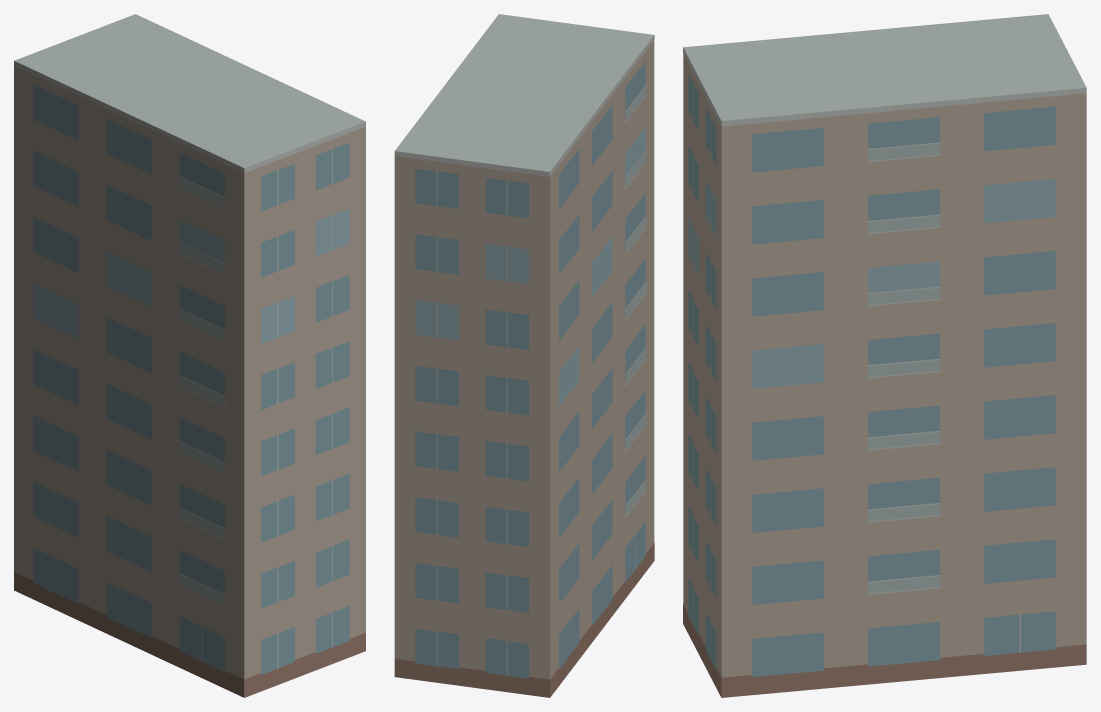
File: survey-upis-33042647.glb
3 renders of one model, left to right at view 1: azimuth 30°, elevation 25°; view 2: azimuth 150°, elevation 25°; view 3: azimuth 270°, elevation 25°, orthographic. The views are drawn at different scales.
Visible parts, largest first — view 1: survey-upis-33042647.tmp; view 2: survey-upis-33042647.tmp; view 3: survey-upis-33042647.tmp.
Boxes of the visible parts, box(x1,y1,x2,y2) form: survey-upis-33042647.tmp: box(14, 14, 365, 697); survey-upis-33042647.tmp: box(394, 14, 654, 697); survey-upis-33042647.tmp: box(683, 14, 1086, 697).
Bounding box in the file's own units: 10.17 × 25.5 × 16.18.
